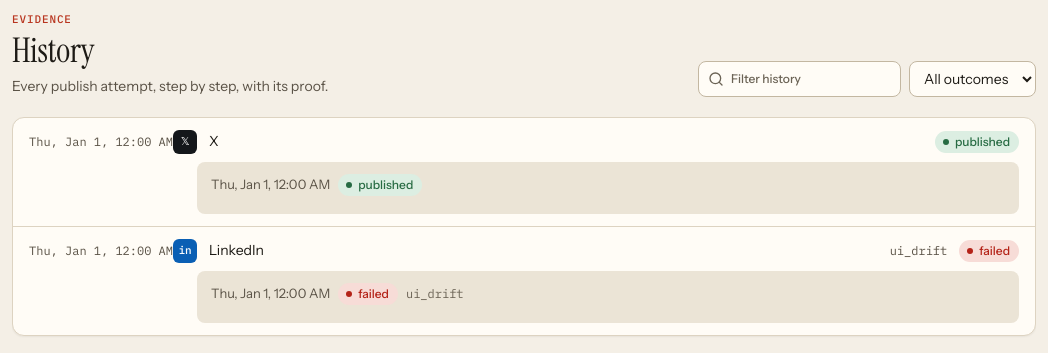
Test: History evidence › filters attempts and exposes permalink and proof
Later steps or results of the test are not shown.
Type "x" into the field labelled "Filter history".
click(800, 79); type("x")  # box [698,61,901,97]
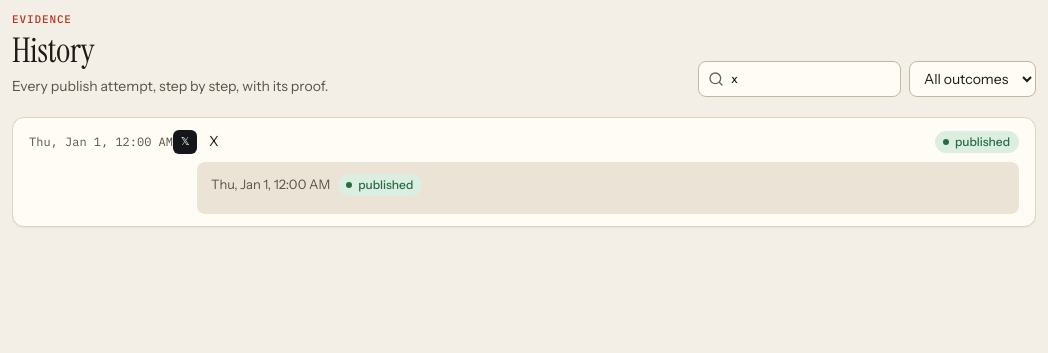
Expected: the text "LinkedIn" is gone
